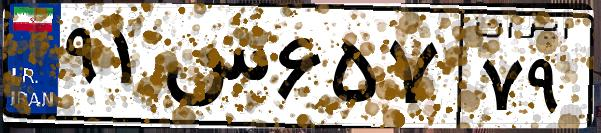1: (110, 28, 158, 98)
5: (330, 28, 385, 110)
6: (270, 28, 330, 110)
7: (385, 28, 445, 110), (475, 38, 525, 113)
9: (57, 26, 110, 100), (525, 38, 570, 115)
س: (158, 20, 270, 120)
